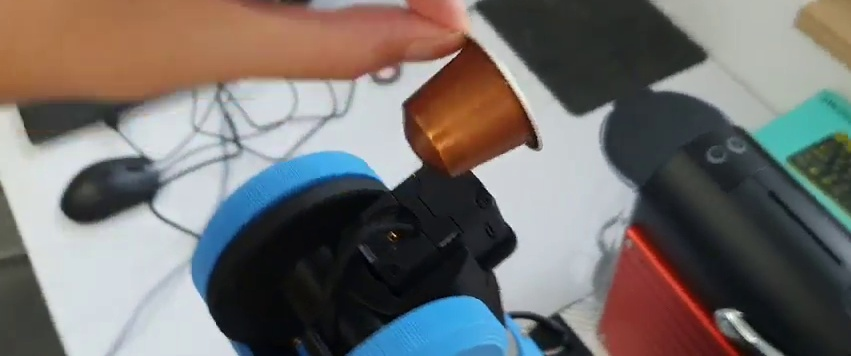capsule_3: (403, 29, 544, 178)
